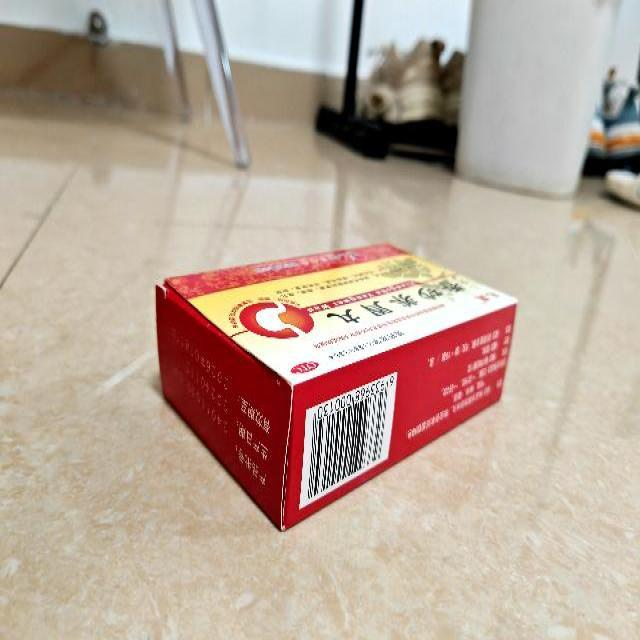box: (152, 242, 518, 532)
